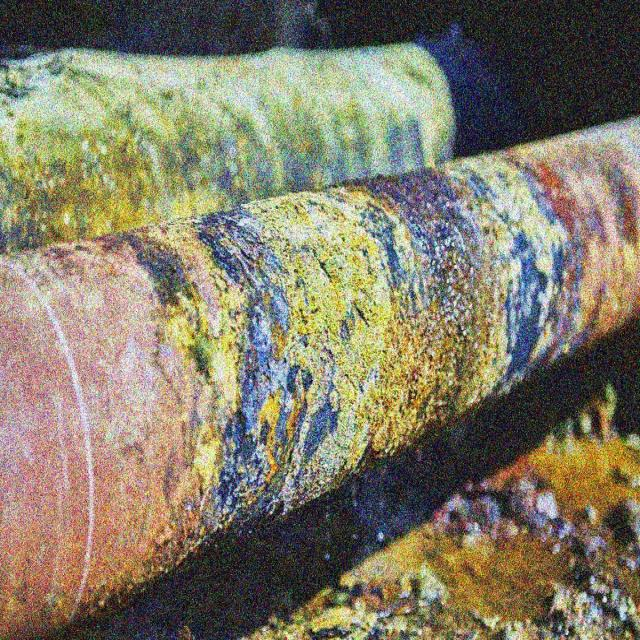rust: (1, 119, 640, 508)
